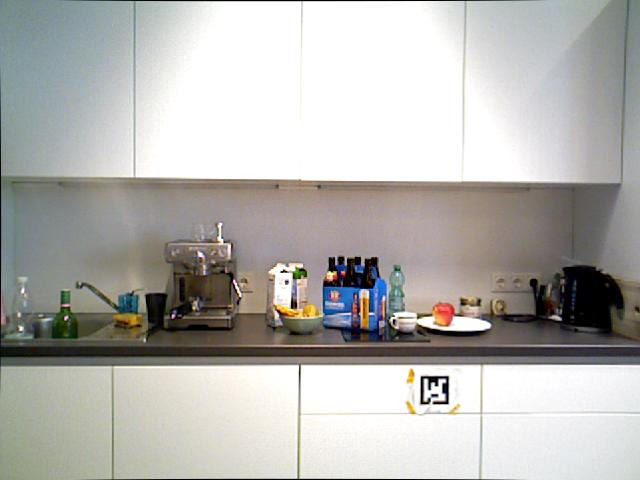bench: (7, 275, 34, 339), (266, 262, 291, 327), (51, 289, 78, 338), (388, 264, 405, 318), (291, 263, 307, 306), (345, 260, 356, 288), (328, 254, 337, 285), (364, 262, 373, 287), (371, 255, 379, 276), (337, 257, 346, 273), (356, 254, 361, 266)
bicycle: (431, 302, 454, 326)
bird: (279, 311, 325, 334)
couch: (1, 311, 117, 341)
giraffe: (489, 296, 508, 317)
handbag: (145, 292, 167, 328), (190, 219, 217, 243), (388, 311, 417, 333), (117, 292, 139, 314)
motorcycle: (274, 303, 304, 318)
